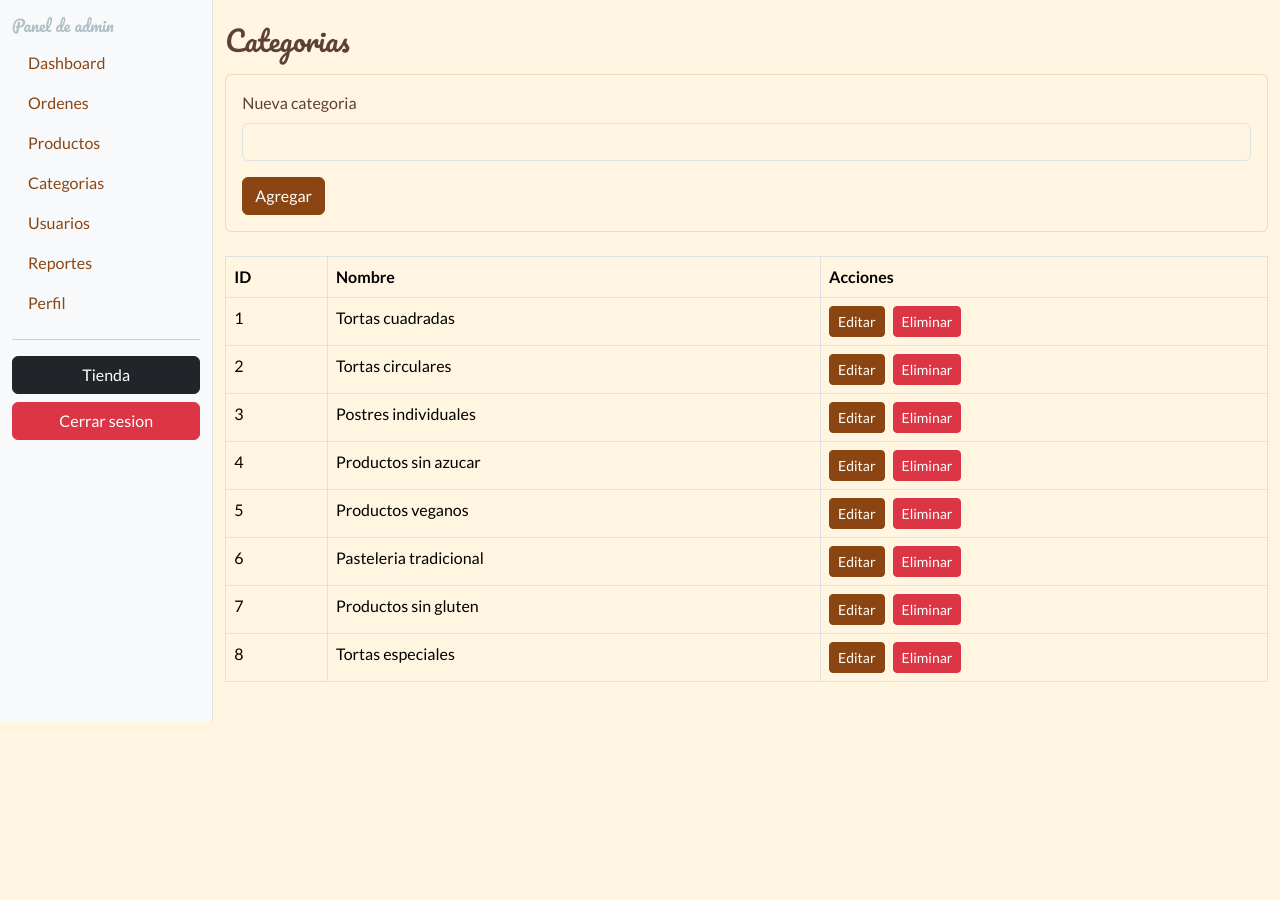
Scenario: Panel de admin › no deja eliminar una categoria que tiene productos
This screenshot has width=1280, height=900.
Click the button "Eliminar" in the row of "Tortas cuadradas".
click(927, 321)  # box [892,306,961,337]
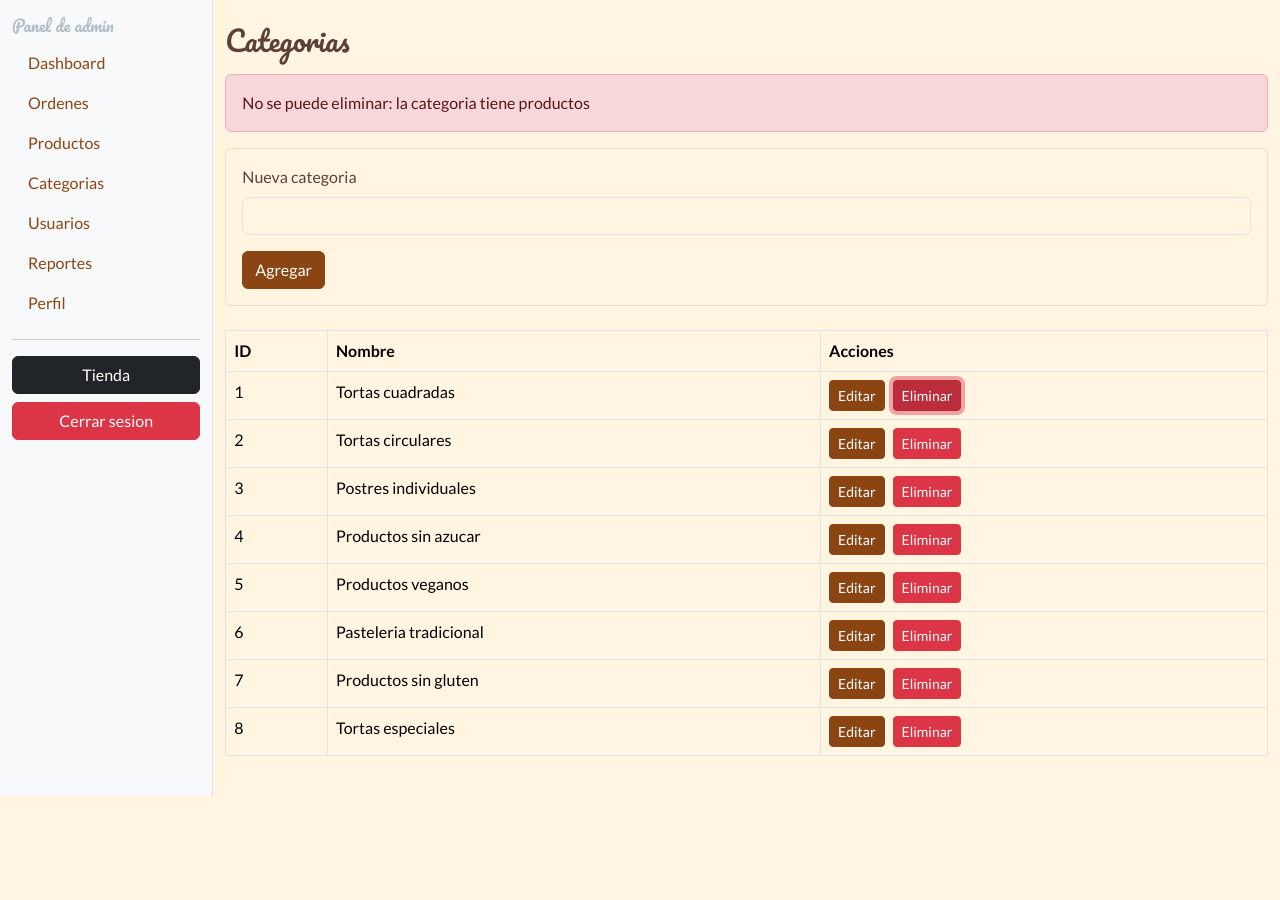
Result: the text "No se puede eliminar: la categoria tiene productos" is shown at [225,74,1268,132]
